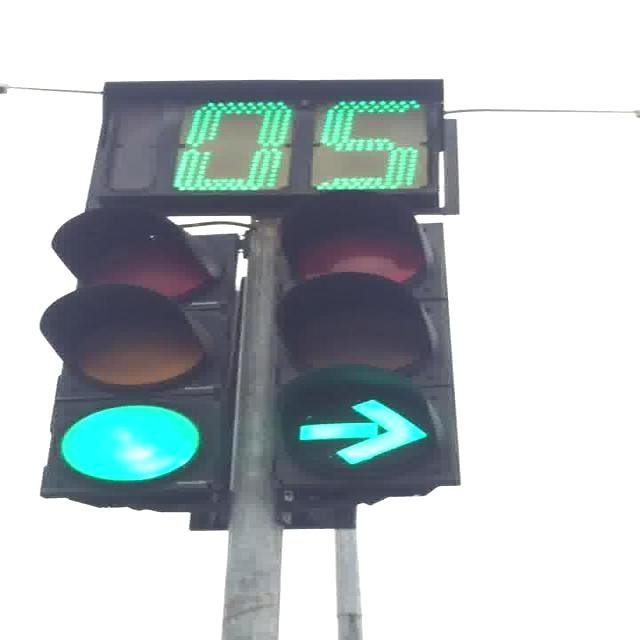Green: (264, 189, 461, 486), (38, 204, 236, 496)
